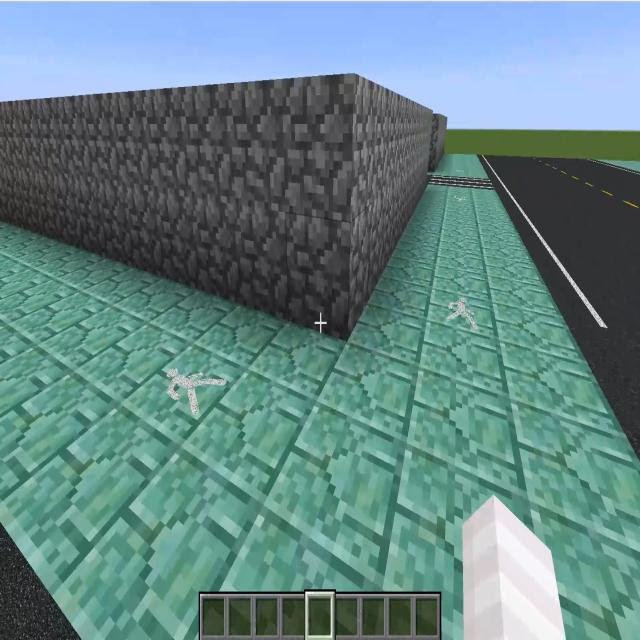crosswalk: (430, 174, 493, 188)
road: (482, 158, 640, 461)
sidewalk: (0, 186, 640, 639), (434, 153, 487, 178), (603, 160, 640, 171)
